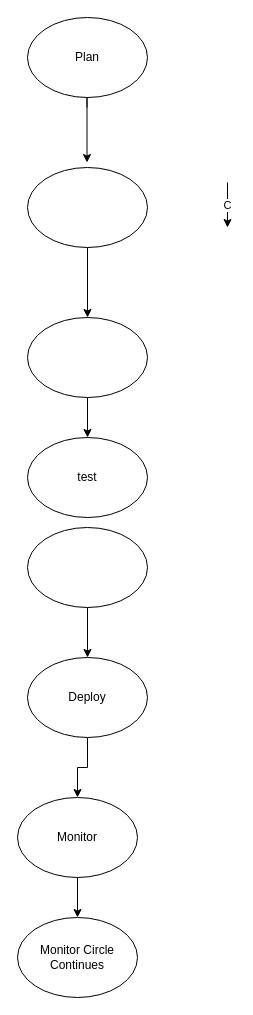
Image size: 253x1015. Some labels were removed from this diagram. The centre of each missing label's shape, as x and y in pixels:
Build: pixel 87 357
Develop: pixel 87 207
Release: pixel 87 567
